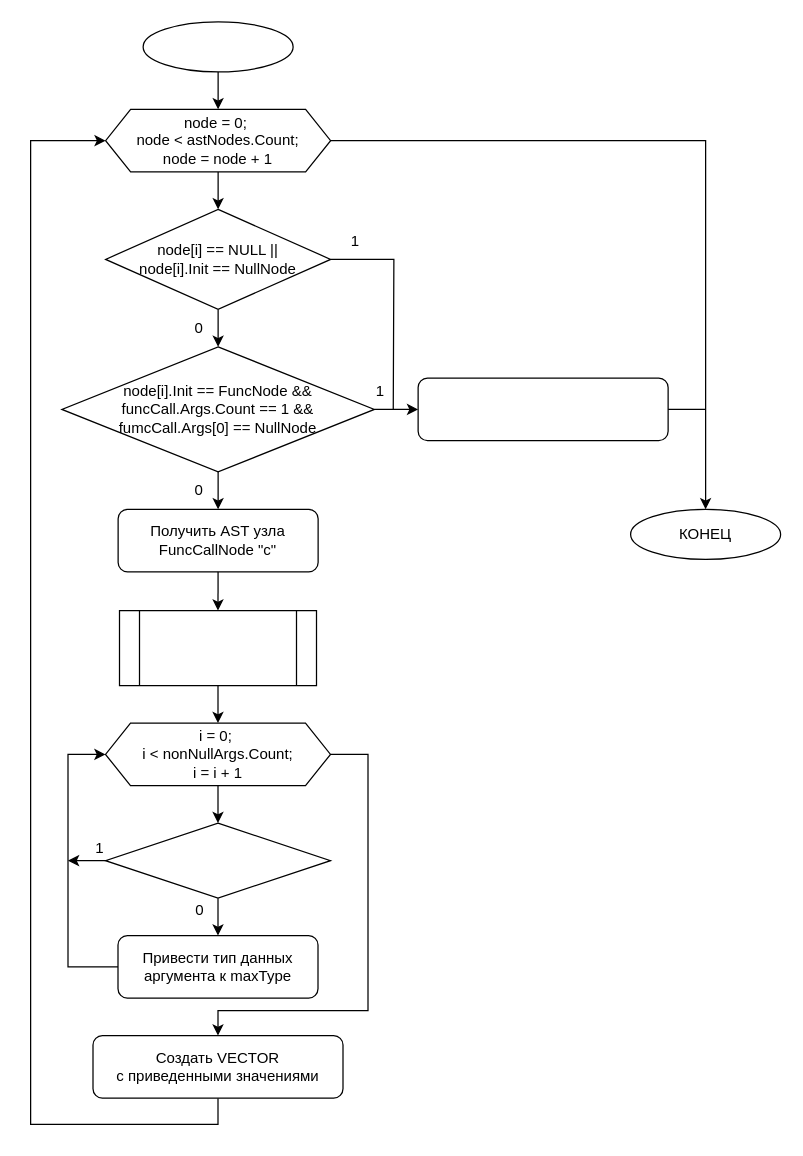
Image size: 803x1156. Some labels were removed from this diagram. The shapes that lost their labels are listed below. From the top down, each one's centre as x and y in pixels, then its label:
[217,46]: НАЧАЛО
[542,409]: Прямое присваивание NULL-значения вектору
[217,647]: Определить общий тип для приведения
[217,860]: nonNullArgs[i].type == maxType
